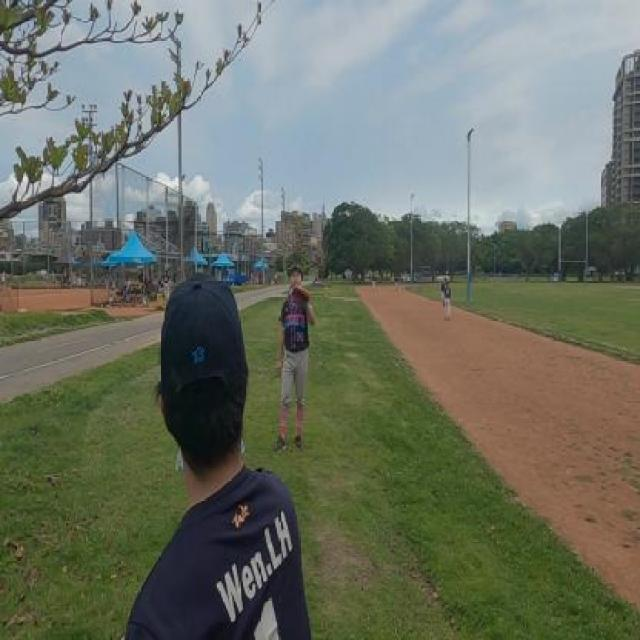baseball: (310, 236, 318, 252)
